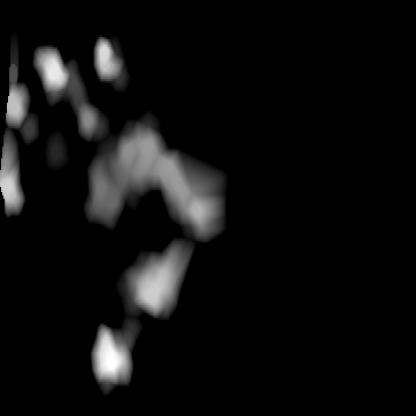fingers: (88, 320, 131, 394)
palm: (1, 37, 78, 212), (0, 32, 132, 120)
thumb: (87, 114, 214, 312)
